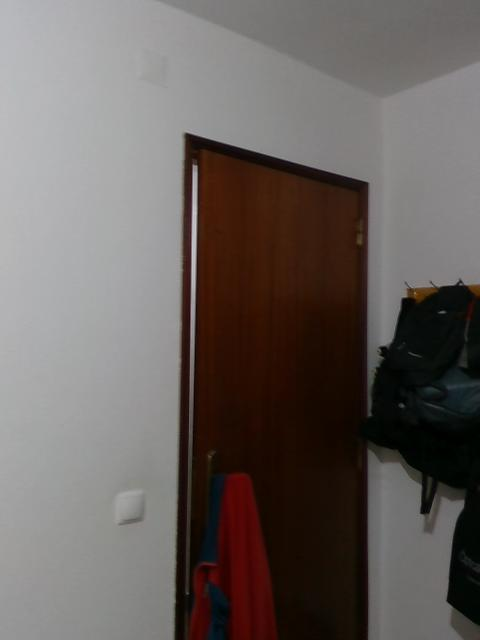closed_door: (180, 129, 370, 638)
